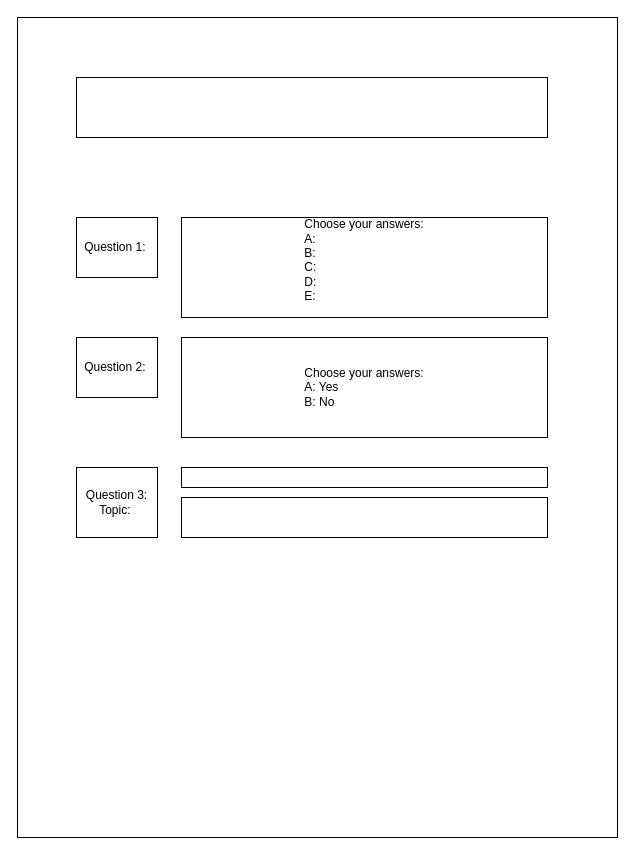
The diagram is 635 pixels wide and 855 high, and some of its shapes have lost their labels. Each missing label, with the box of its shape:
Answer that question!: (180, 466, 548, 488)
User name:: (76, 76, 548, 138)
